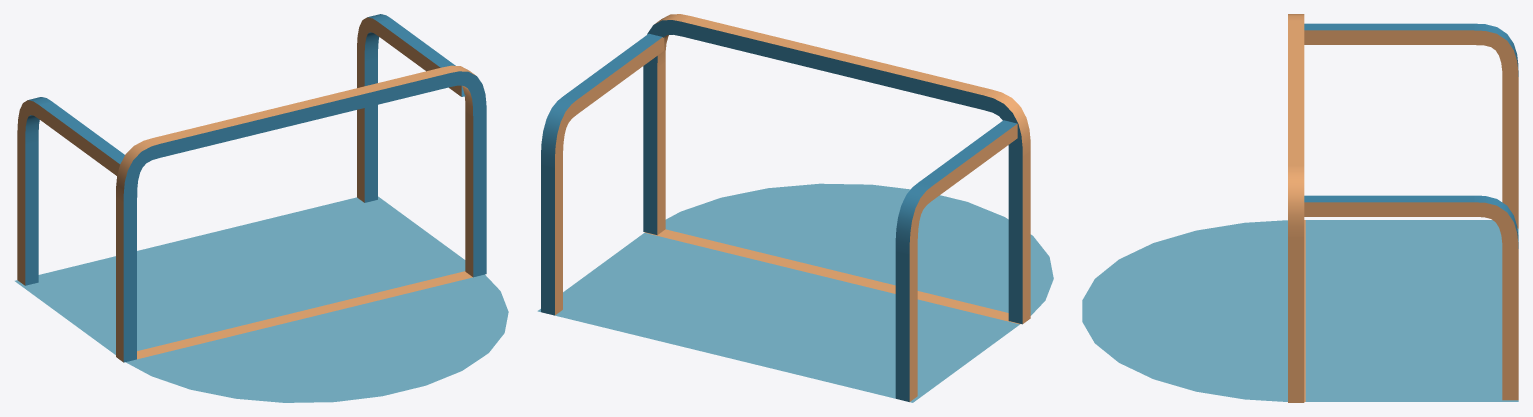
The model's file is goal_blue.fbx.
3 views of the same model, side by side, from view 1: azimuth 30°, elevation 25°; view 2: azimuth 150°, elevation 25°; view 3: azimuth 270°, elevation 25° (orthographic). The views are drawn at different scales.
Visible parts, largest first — view 1: goal_blue; view 2: goal_blue; view 3: goal_blue.
Part boxes in pixels (bbox=[...]): goal_blue: bbox=[15, 14, 508, 402]; goal_blue: bbox=[537, 14, 1053, 402]; goal_blue: bbox=[1082, 14, 1518, 402].
Size of the model in its own units: 10.4 by 5.75 by 10.43.
